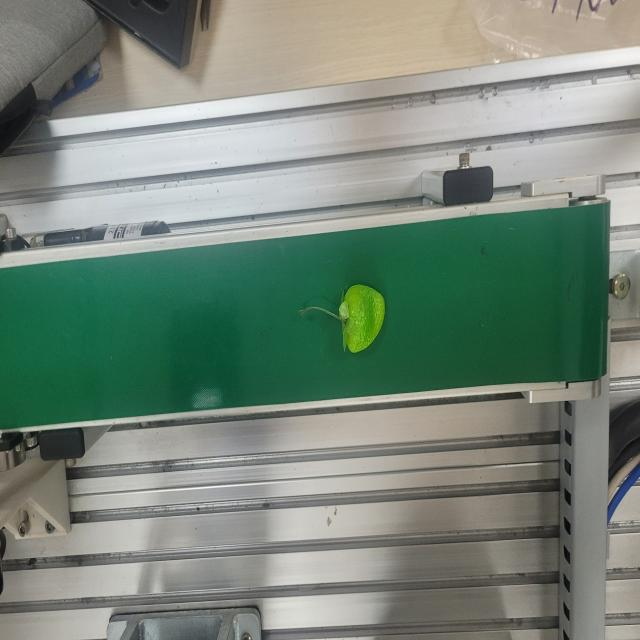Small Unripe Strawberry: (297, 278, 388, 358)
